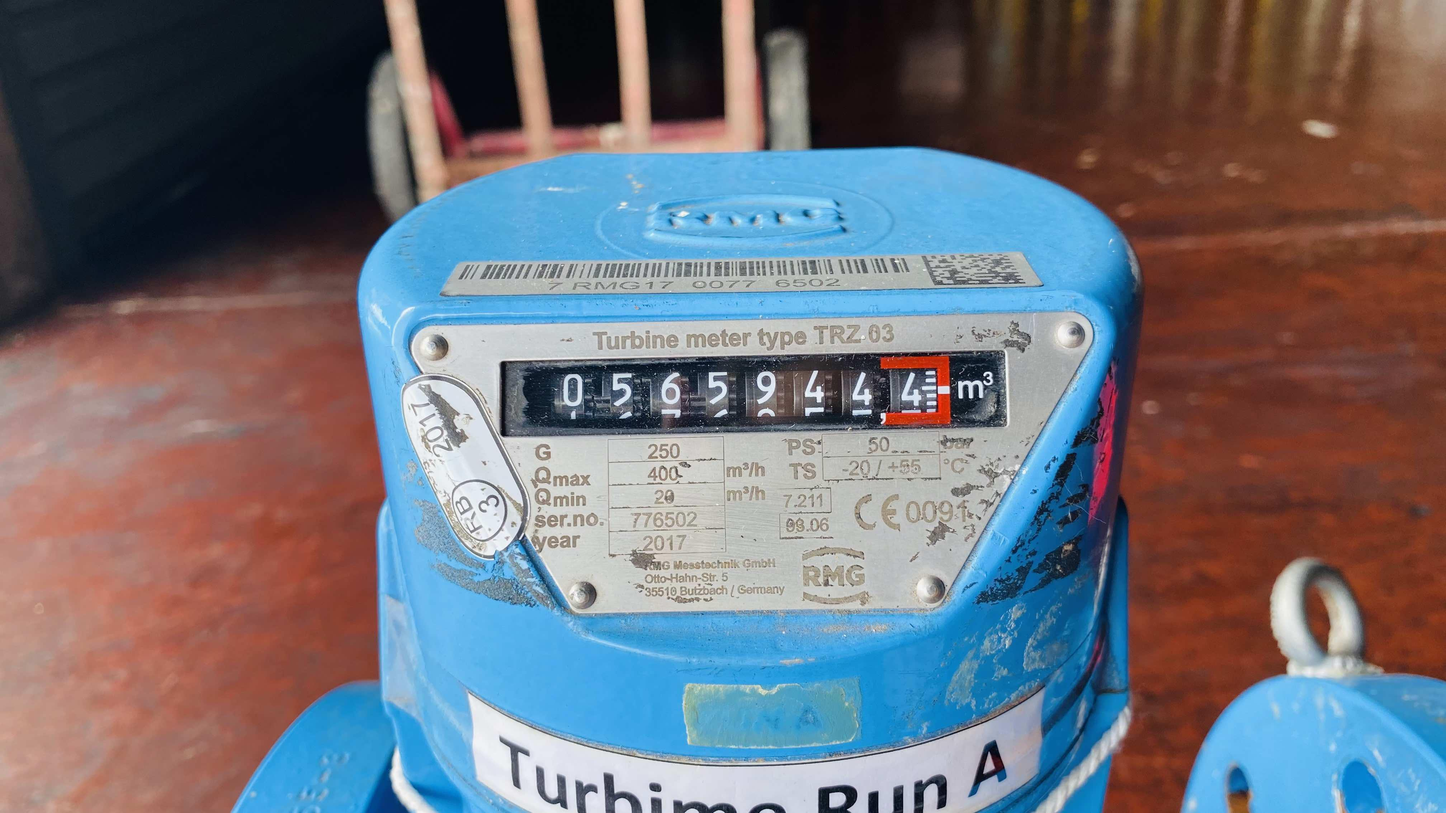analog_dial: (501, 351, 1007, 438)
